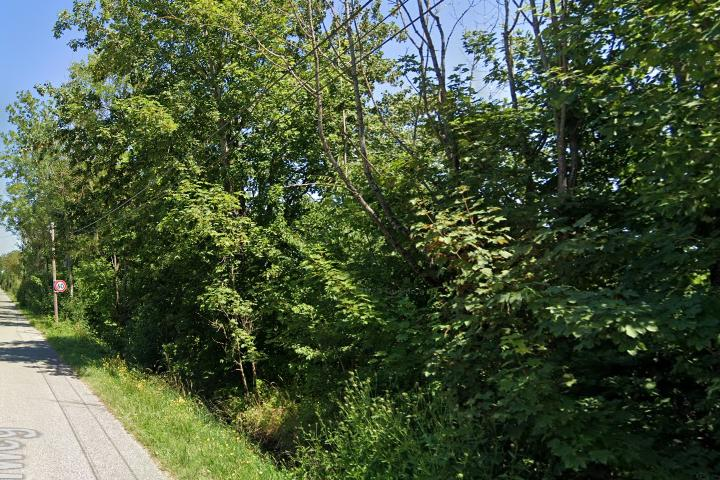traffic_sign: (54, 279, 67, 292)
